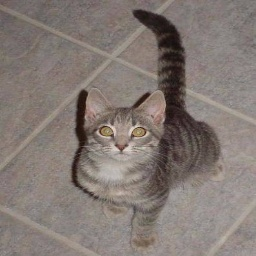cat: (76, 6, 228, 251)
